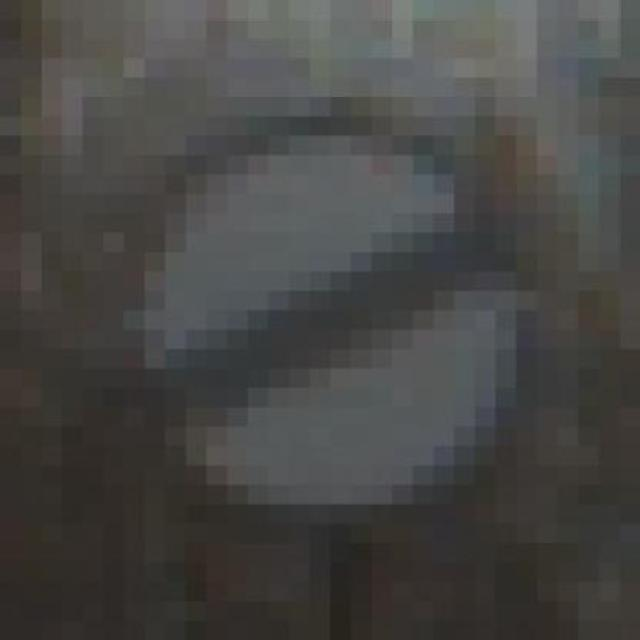End of all speed and passing limits: (103, 97, 557, 563)
